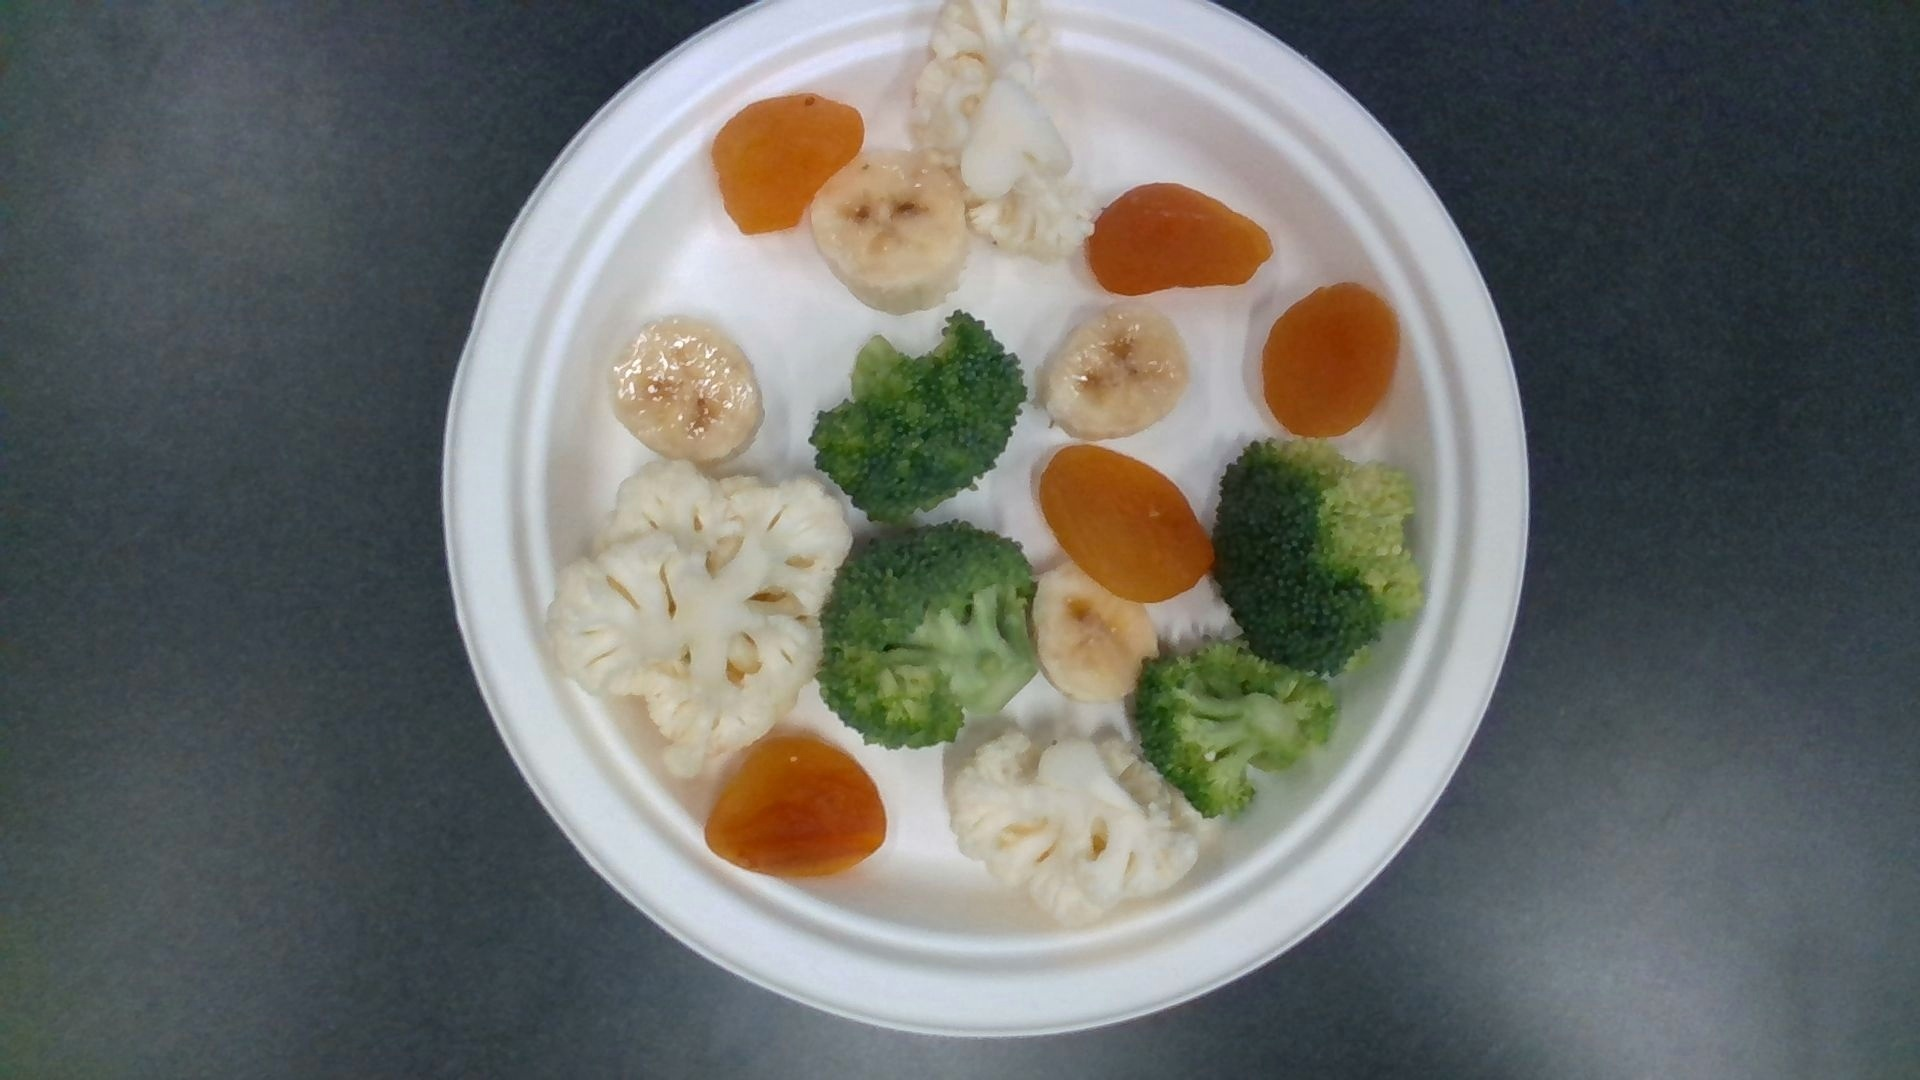apricot: (1042, 444, 1207, 600), (705, 736, 884, 880), (1087, 186, 1273, 295), (1265, 285, 1399, 433), (715, 95, 862, 229)
banana: (810, 150, 971, 311), (612, 318, 762, 460), (1044, 301, 1187, 438), (1034, 563, 1156, 696)
broccoli: (819, 524, 1039, 746), (1215, 438, 1422, 670), (810, 313, 1025, 521), (1134, 638, 1338, 815)
cauliflower: (554, 463, 851, 748), (949, 731, 1200, 913), (909, 1, 1091, 245)
